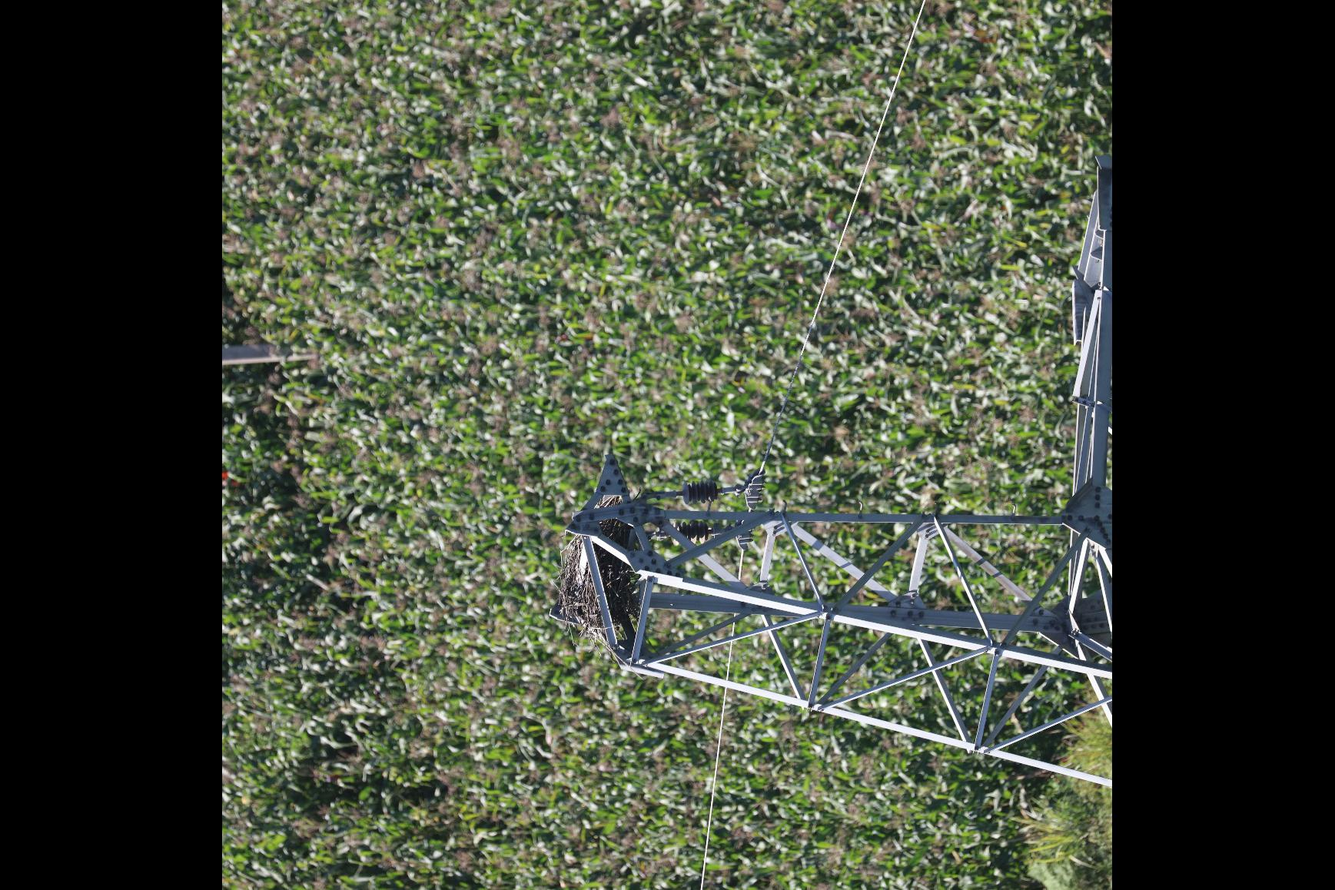nest: (554, 516, 631, 639)
